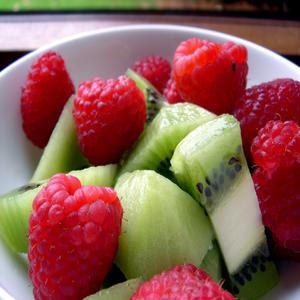raspb: (77, 81, 146, 162)
